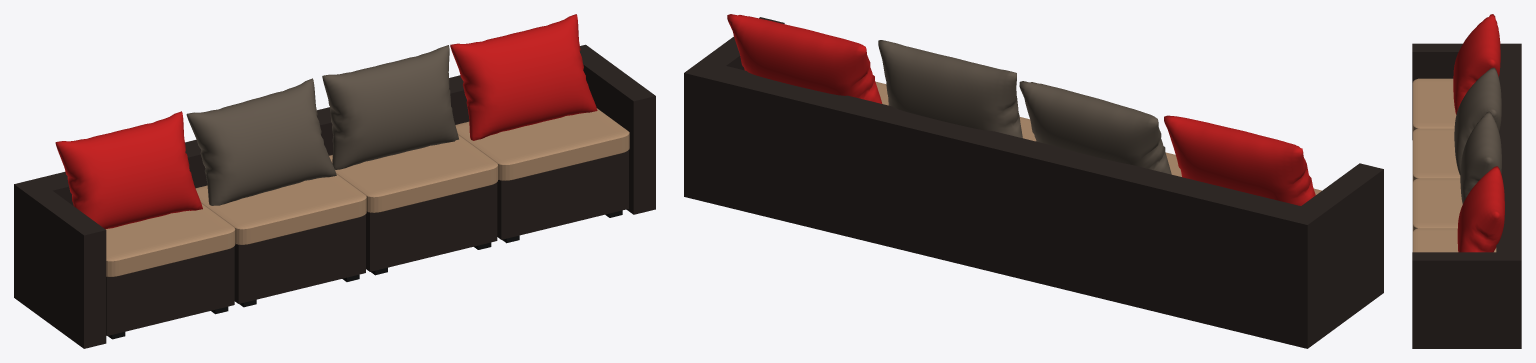
The model's file is Couch.fbx.
3 renders of one model, left to right at view 1: azimuth 30°, elevation 25°; view 2: azimuth 150°, elevation 25°; view 3: azimuth 270°, elevation 25°, orthographic. The views are drawn at different scales.
Parts seen in each view (by area): view 1: Plane.003; view 2: Plane.003; view 3: Plane.003.
Part boxes in pixels (<box>): Plane.003: <box>14,14,655,348</box>; Plane.003: <box>684,14,1383,348</box>; Plane.003: <box>1412,14,1521,348</box>.
Size of the model in its own units: 663 by 185 by 141.
